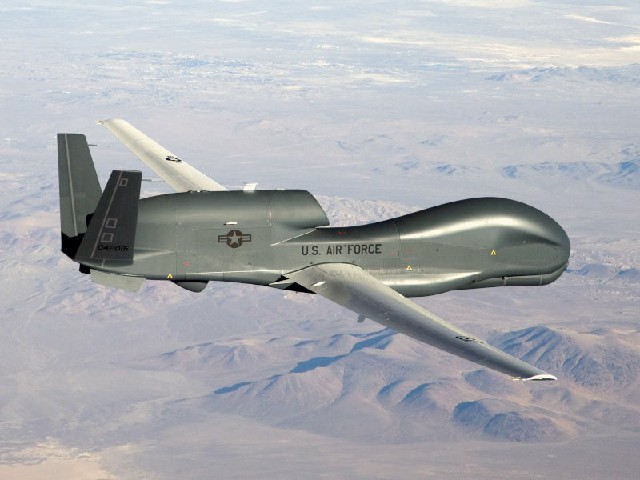maybay_khongnguoilai: (56, 108, 568, 395)
